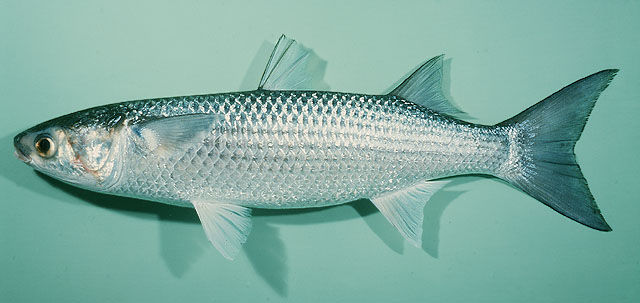fish: (13, 34, 619, 263)
